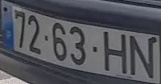2: (26, 13, 42, 56)
3: (67, 25, 87, 66)
6: (50, 21, 67, 62)
7: (13, 8, 26, 49)
H: (101, 30, 127, 75)
N: (128, 34, 154, 79)
